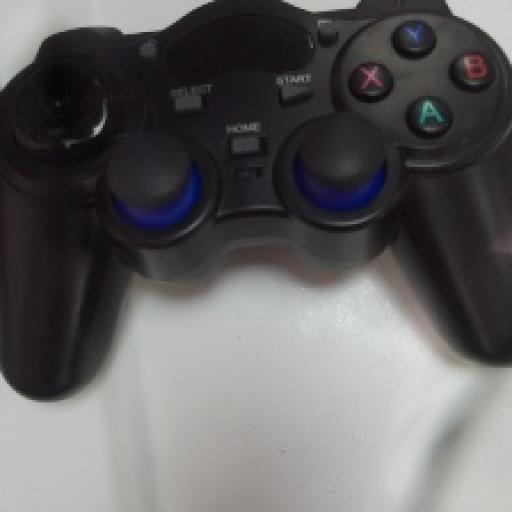game pad: (2, 0, 510, 391)
